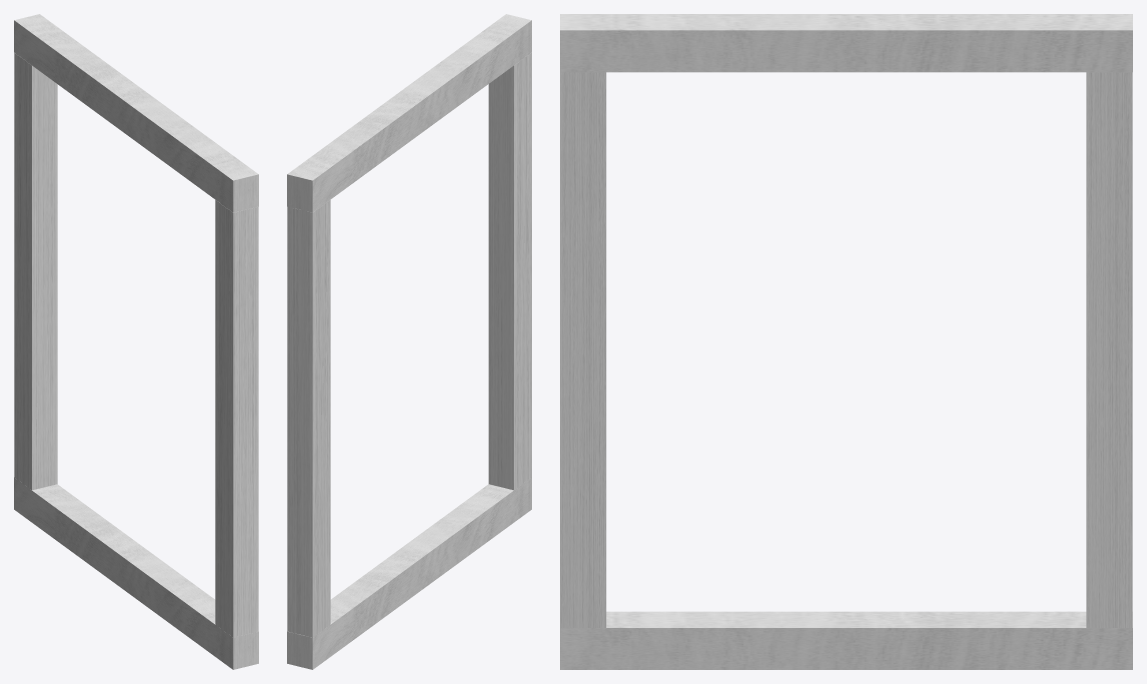
The model's file is MarcoVentanaTrasera2.obj.
3 views of the same model, side by side, from view 1: azimuth 30°, elevation 25°; view 2: azimuth 150°, elevation 25°; view 3: azimuth 270°, elevation 25° (orthographic). The views are drawn at different scales.
Parts seen in each view (by area): view 1: MarcoVentanaTrasera1; view 2: MarcoVentanaTrasera1; view 3: MarcoVentanaTrasera1.
Part boxes in pixels (x1,y1,x2,y2): MarcoVentanaTrasera1: (14, 14, 258, 669); MarcoVentanaTrasera1: (287, 14, 531, 669); MarcoVentanaTrasera1: (560, 14, 1132, 669).
Bounding box in the file's own units: 0.2502 × 4.57 × 3.71.
1 material, 1 textured.
